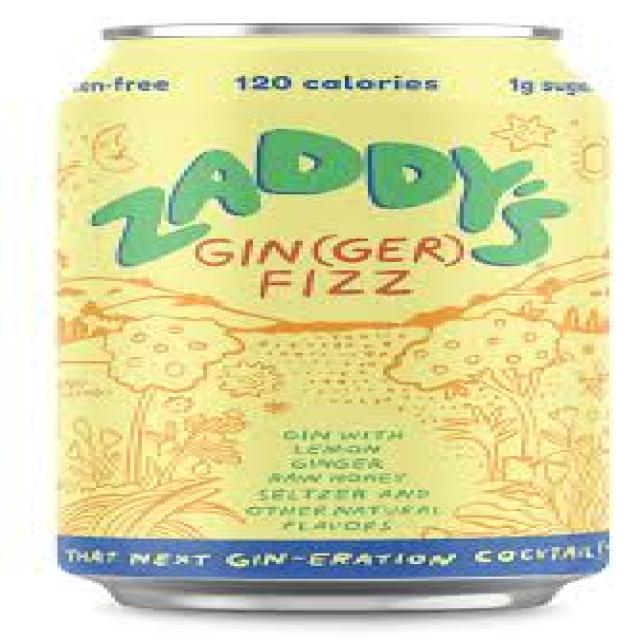Cans: (38, 15, 640, 619)
